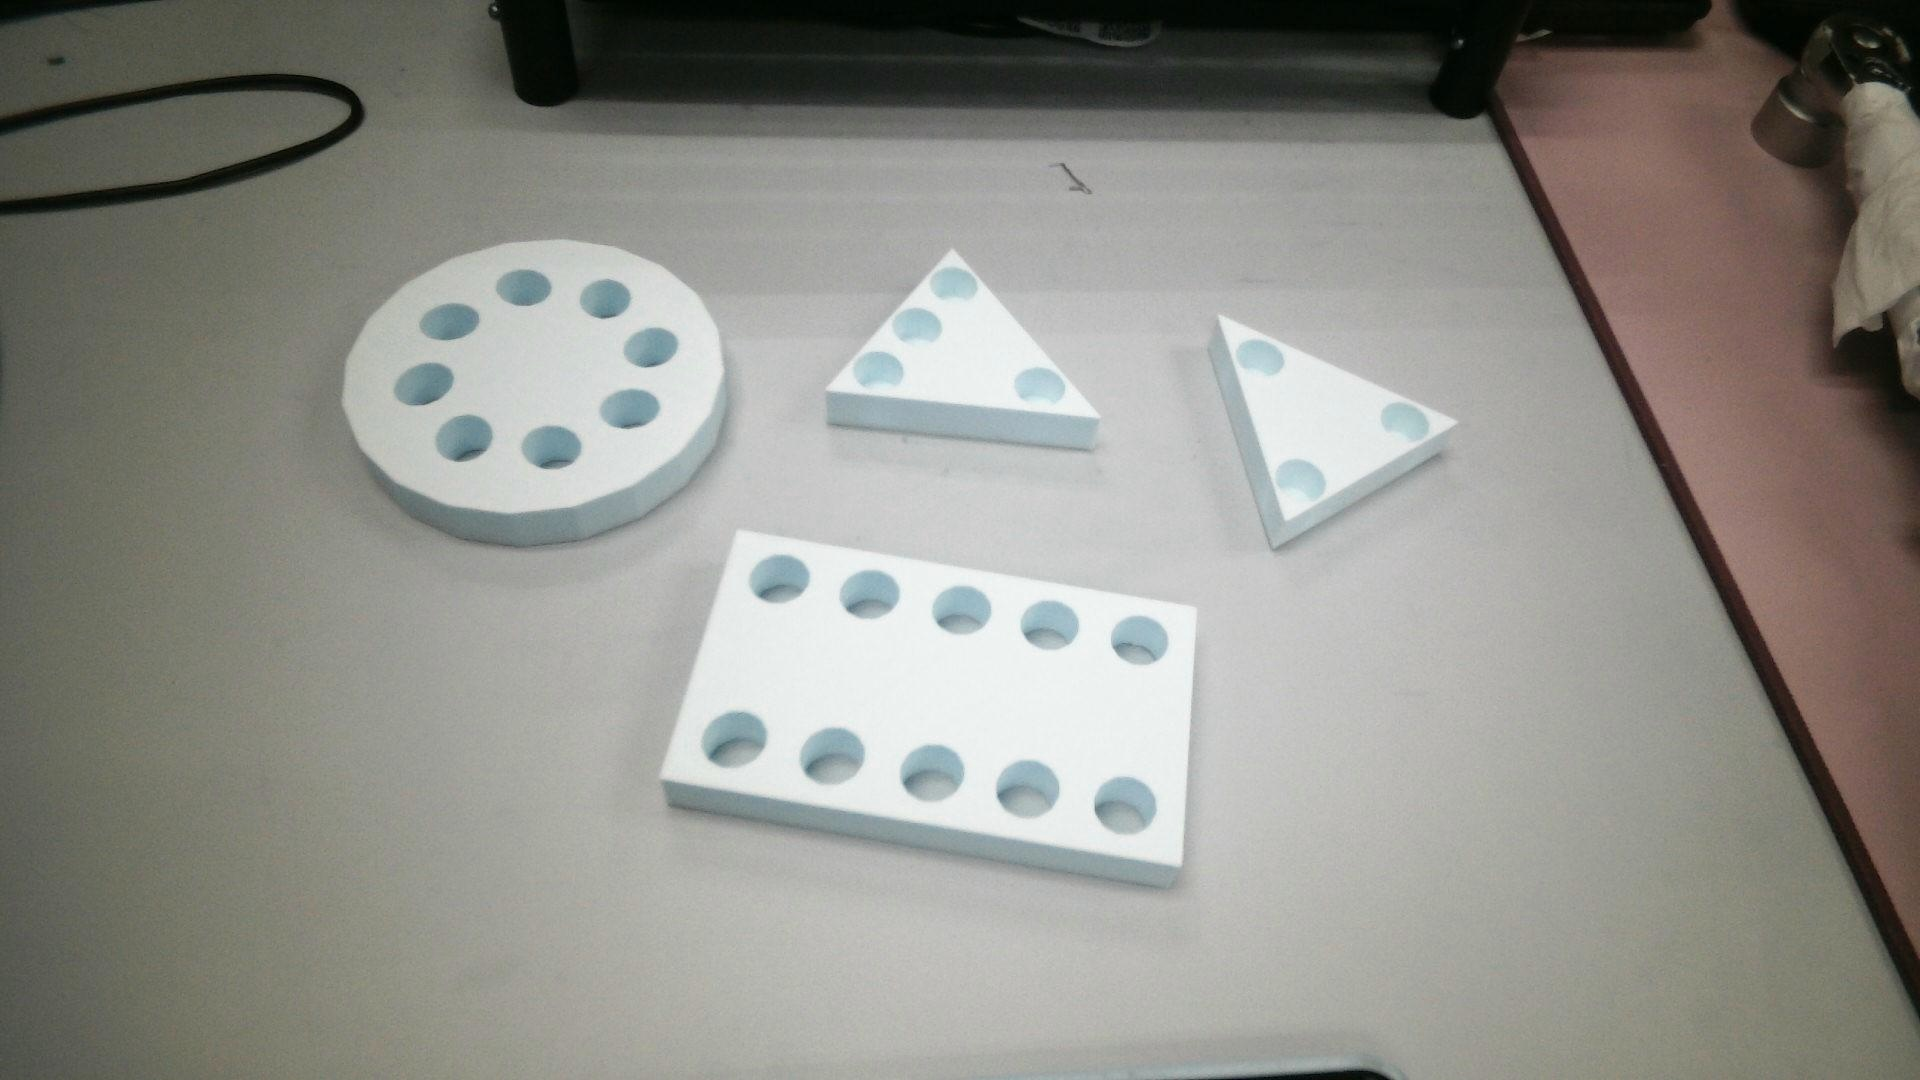hole: (992, 754, 1065, 822), (1091, 774, 1156, 837), (746, 553, 818, 609), (901, 744, 967, 804), (800, 727, 864, 787), (843, 560, 902, 621), (702, 708, 760, 770), (1108, 615, 1167, 674), (935, 582, 996, 640), (1025, 593, 1077, 655), (434, 411, 491, 463), (417, 299, 483, 343), (597, 389, 661, 434), (390, 361, 454, 406), (521, 427, 585, 469), (1010, 367, 1065, 411), (626, 322, 676, 369), (1270, 456, 1323, 501), (578, 276, 632, 319), (855, 351, 905, 393), (927, 266, 978, 307), (497, 269, 549, 309), (890, 309, 945, 344), (1385, 398, 1431, 440), (1237, 338, 1287, 375)
obj: (653, 527, 1207, 895), (340, 233, 720, 541), (1189, 310, 1460, 568), (807, 247, 1121, 463)
